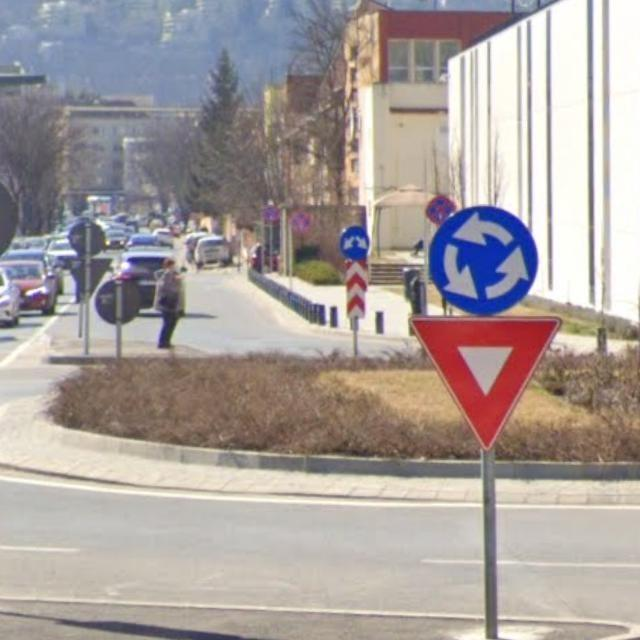prio_give_way: (409, 314, 554, 450)
